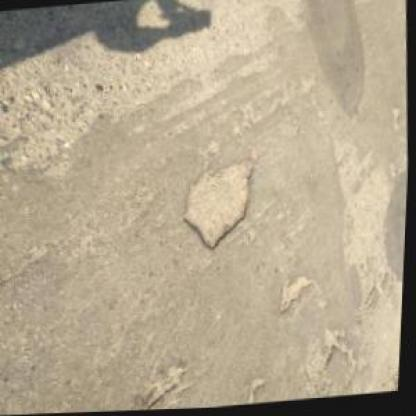pothole: (179, 156, 262, 256), (144, 364, 194, 410), (277, 276, 318, 317), (320, 326, 350, 369)
